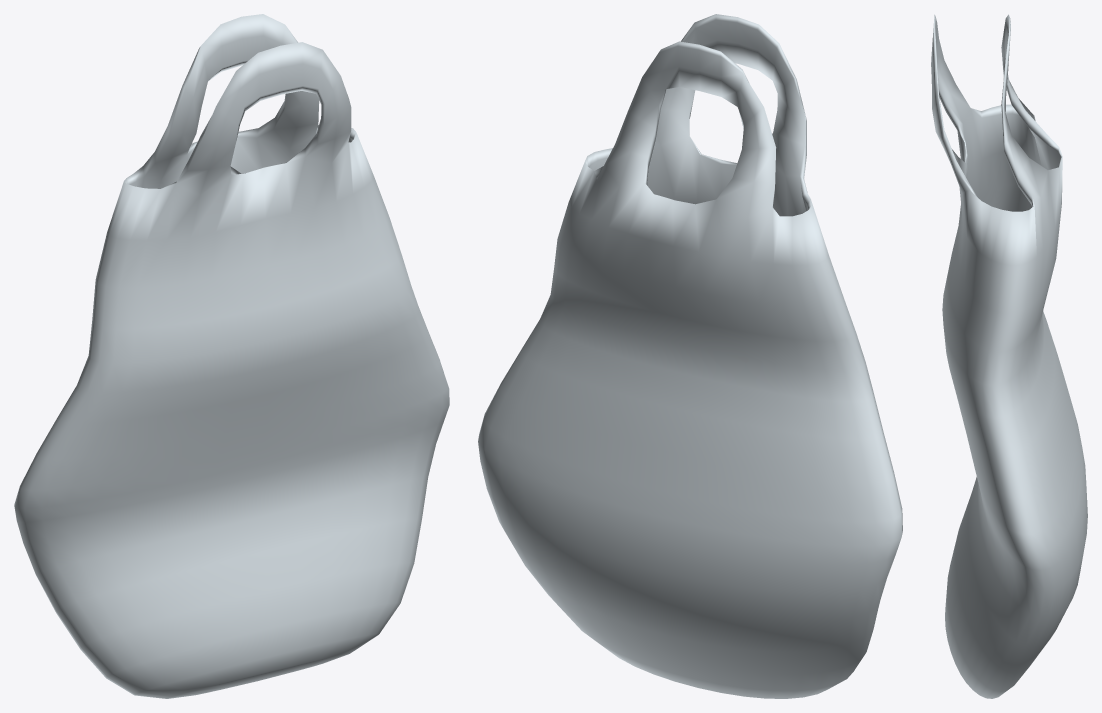
The model's file is BolsaPlastico_05.fbx.
3 renders of one model, left to right at view 1: azimuth 30°, elevation 25°; view 2: azimuth 150°, elevation 25°; view 3: azimuth 270°, elevation 25°, orthographic. The views are drawn at different scales.
Visible parts, largest first — view 1: BolsaPlastico_05; view 2: BolsaPlastico_05; view 3: BolsaPlastico_05.
Part boxes in pixels (bbox=[...]): BolsaPlastico_05: bbox=[14, 14, 449, 698]; BolsaPlastico_05: bbox=[478, 14, 902, 698]; BolsaPlastico_05: bbox=[931, 14, 1087, 698].
Bounding box in the file's own units: 46.95 × 68.6 × 15.23.
